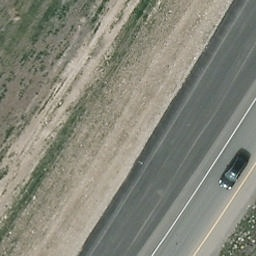car: (217, 155, 249, 193)
